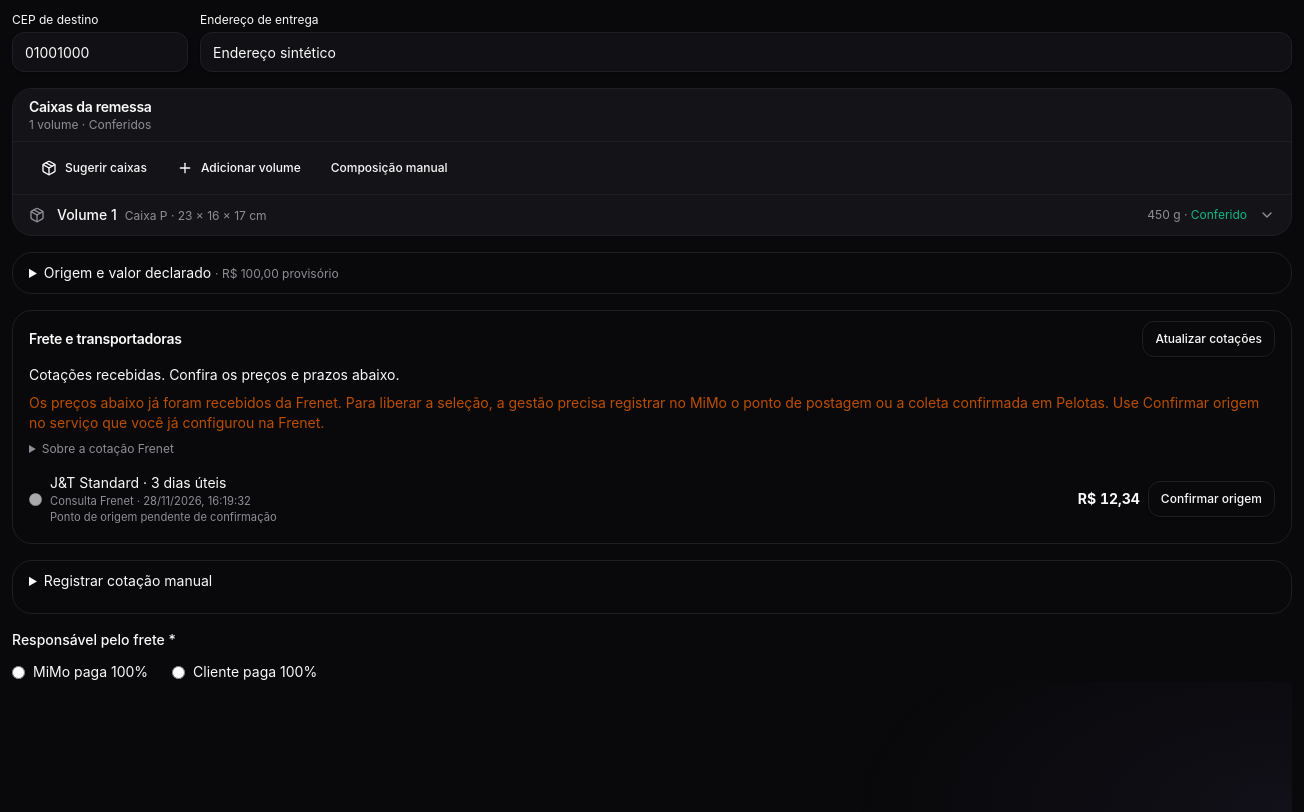
Test: gestao confirma o ponto configurado e consegue selecionar sem alterar o preco
The image size is (1304, 812).
Expected: the radio button labelled "J&T Standard" is disabled, [29,492,42,506]
Click the button "Confirmar origem" at (1211,499), box [1148,481,1275,517]
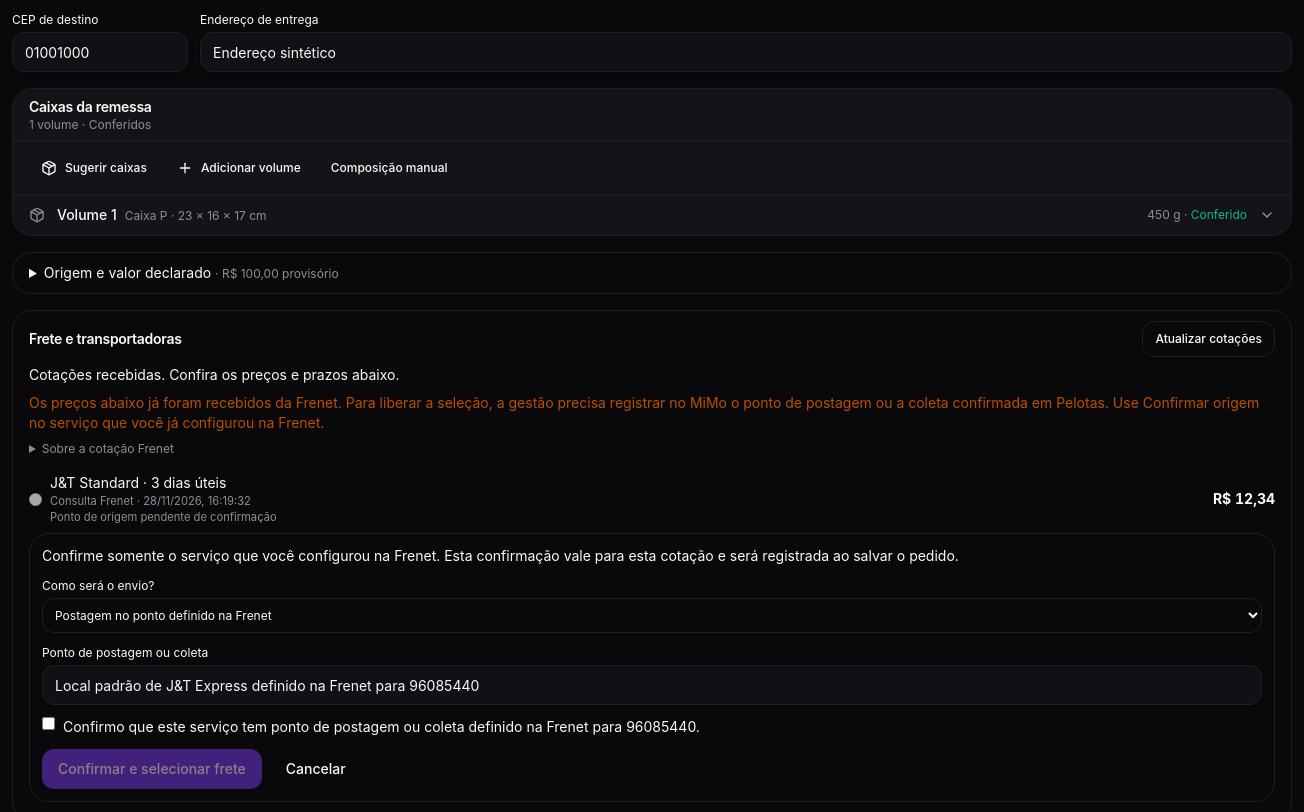
Expected: the button "Confirmar e selecionar frete" is disabled, [42,749,262,789]
Click the checkbox labelled "Confirmo que este servi" at (48,724), box [42,717,55,730]
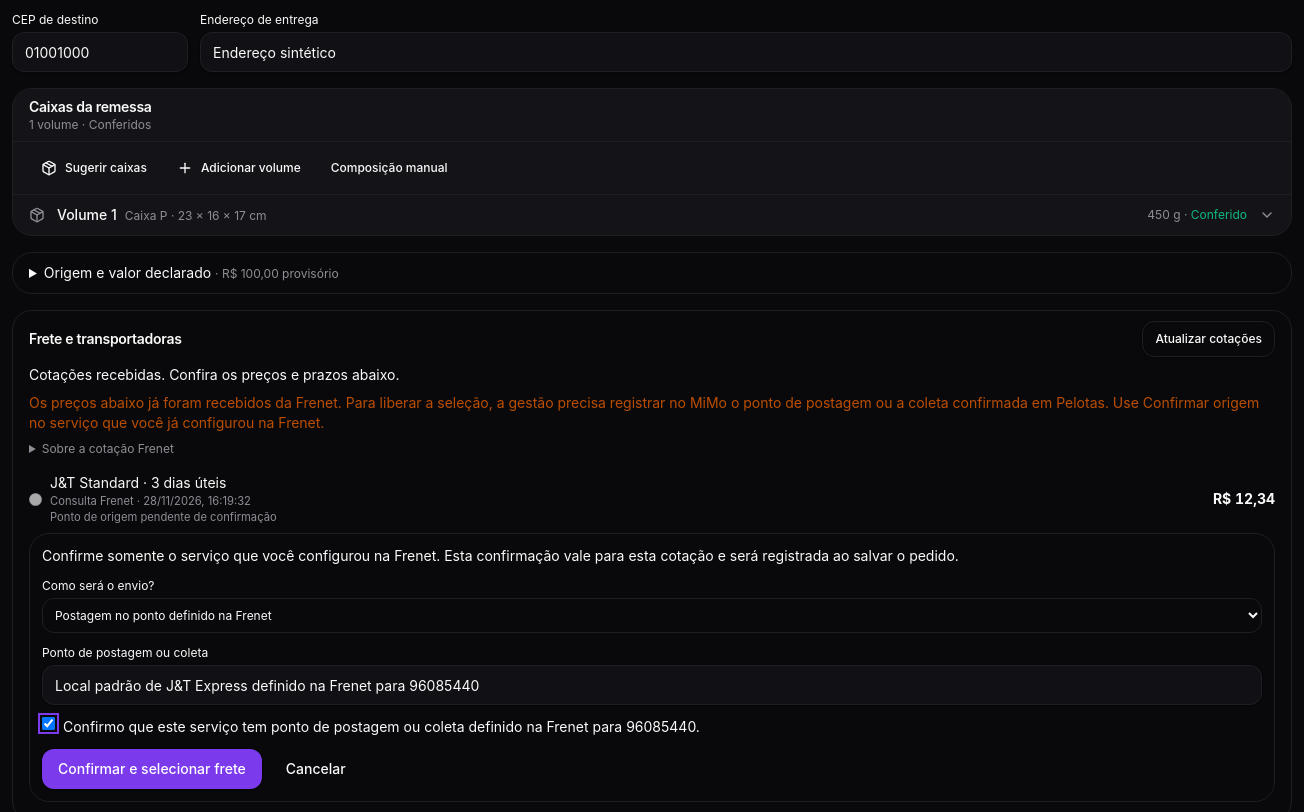
Click the button "Confirmar e selecionar frete" at (152,769), box [42,749,262,789]
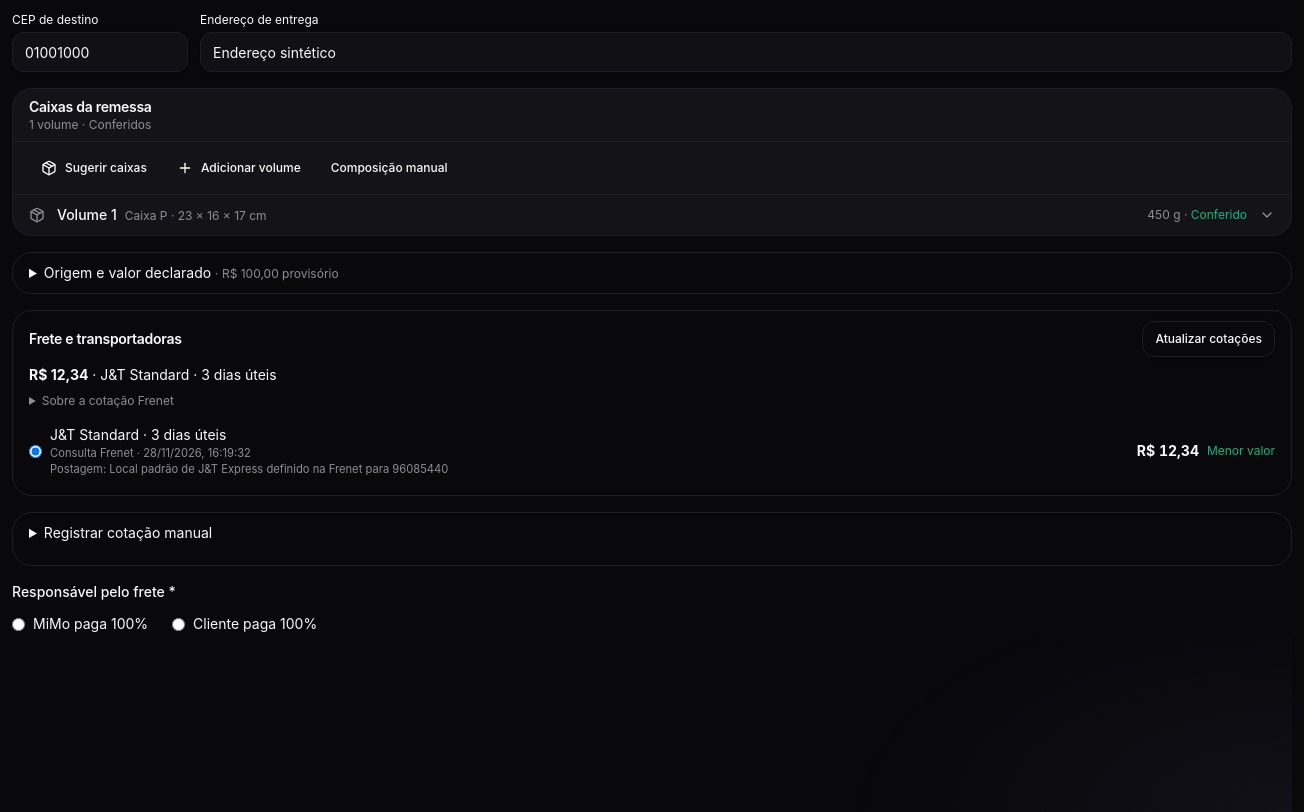
Expected: the radio button labelled "J&T Standard" is checked, [29,444,42,458]
Expected: the radio button labelled "J&T Standard" is enabled, [29,444,42,458]
